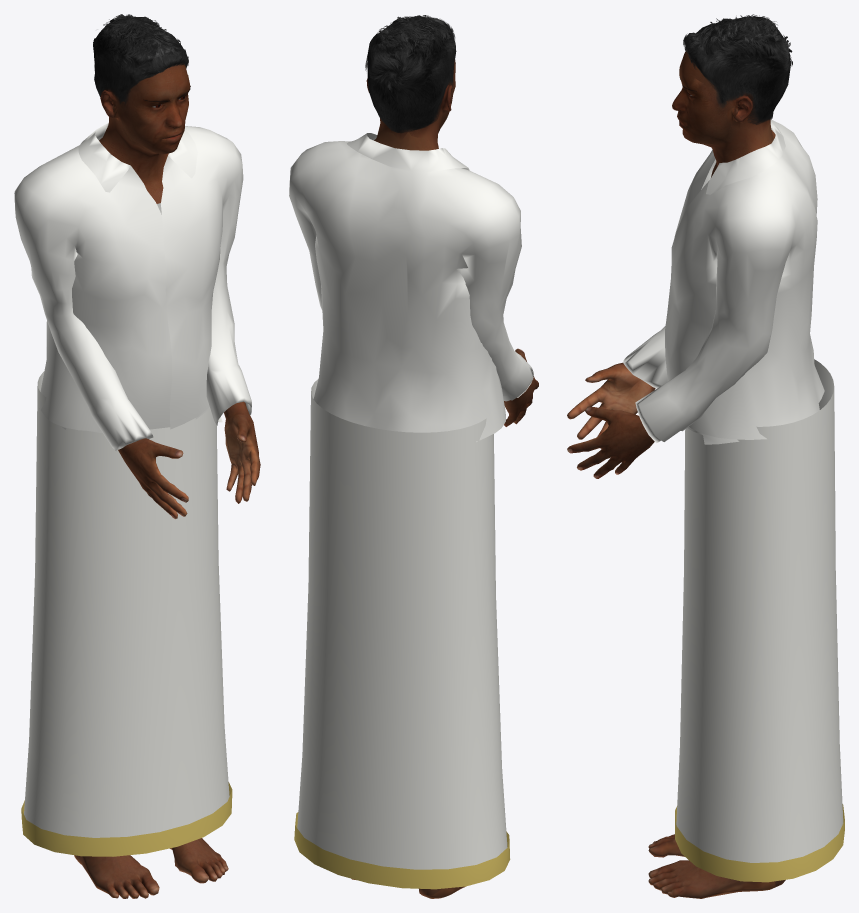
Rendered from street_man_veshti.glb.
3 views of the same model, side by side, from view 1: azimuth 30°, elevation 25°; view 2: azimuth 150°, elevation 25°; view 3: azimuth 270°, elevation 25° (orthographic). The views are drawn at different scales.
Parts seen in each view (by area): view 1: man_veshti; view 2: man_veshti; view 3: man_veshti.
Part boxes in pixels (bbox=[...]): man_veshti: bbox=[14, 14, 260, 898]; man_veshti: bbox=[289, 15, 538, 898]; man_veshti: bbox=[567, 14, 844, 898].
Size of the model in its own units: 0.4792 by 1.77 by 0.5229.
Materials: 11 (8 with a texture image).
